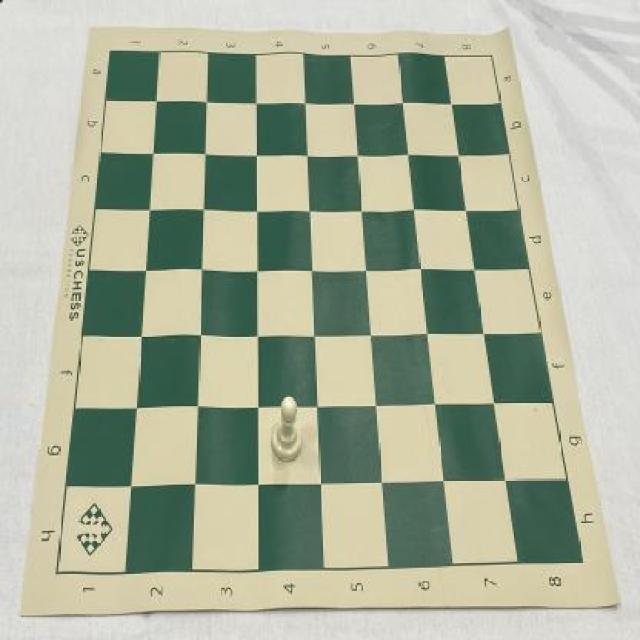white-knight: (271, 395, 303, 463)
